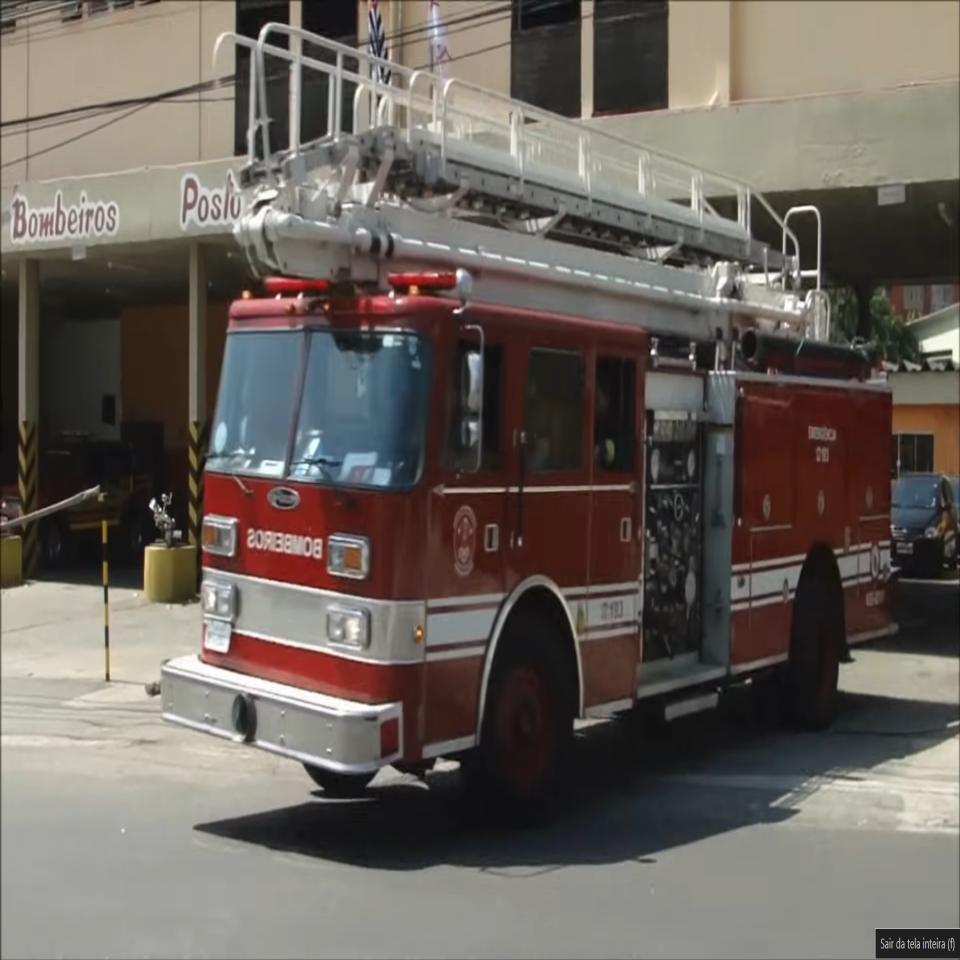viatura: (159, 17, 898, 824)
